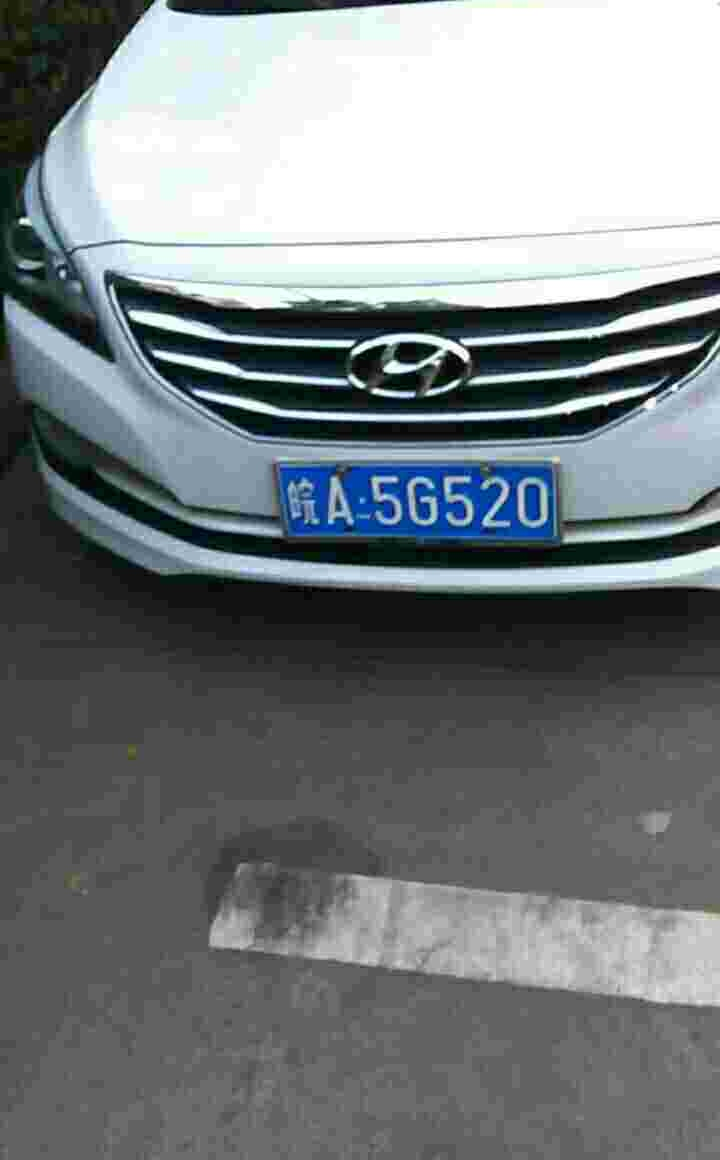plate: (277, 459, 564, 543)
